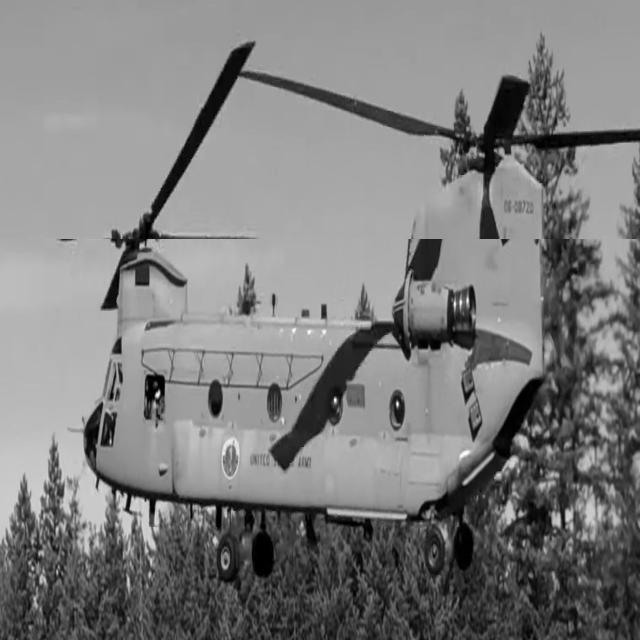Helicopter: (84, 42, 640, 575)
